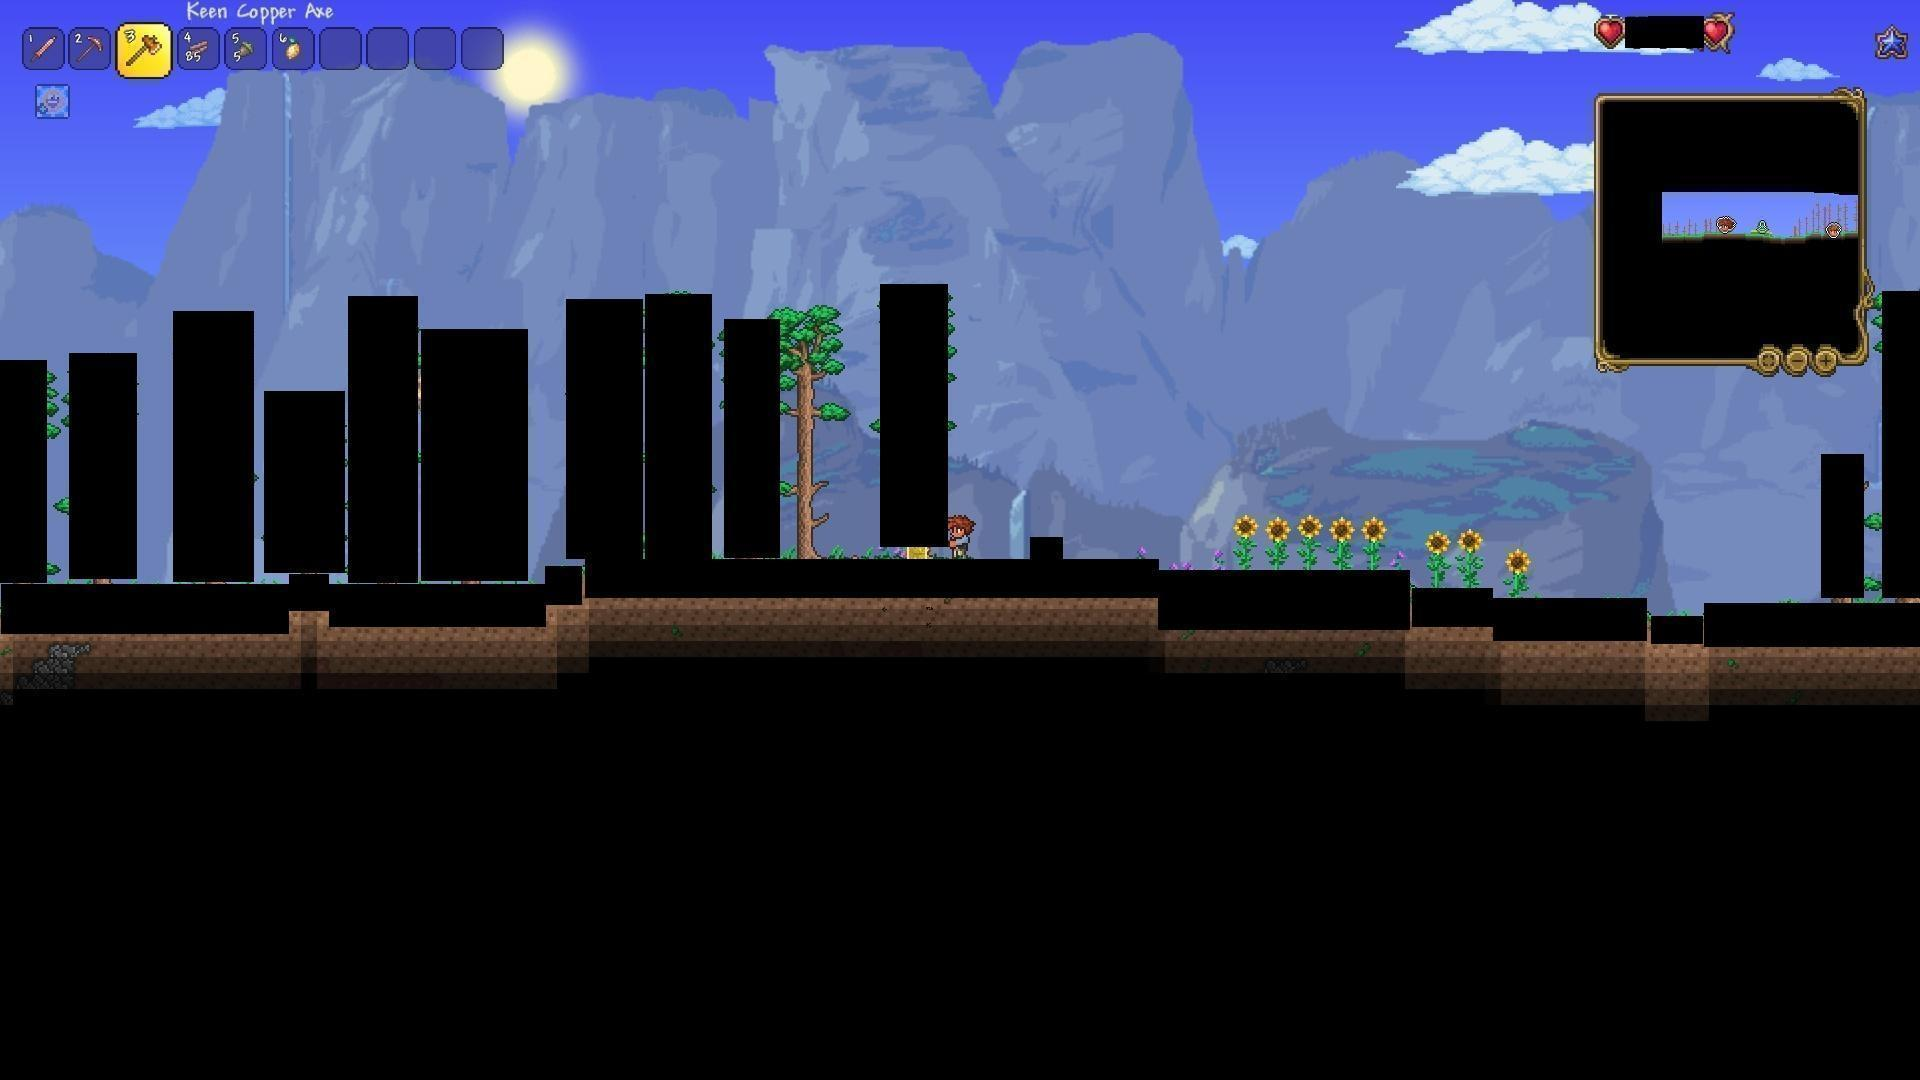heart: (1598, 15, 1629, 45), (1702, 17, 1731, 49)
tree: (783, 305, 844, 556)
wood: (185, 30, 215, 61)
